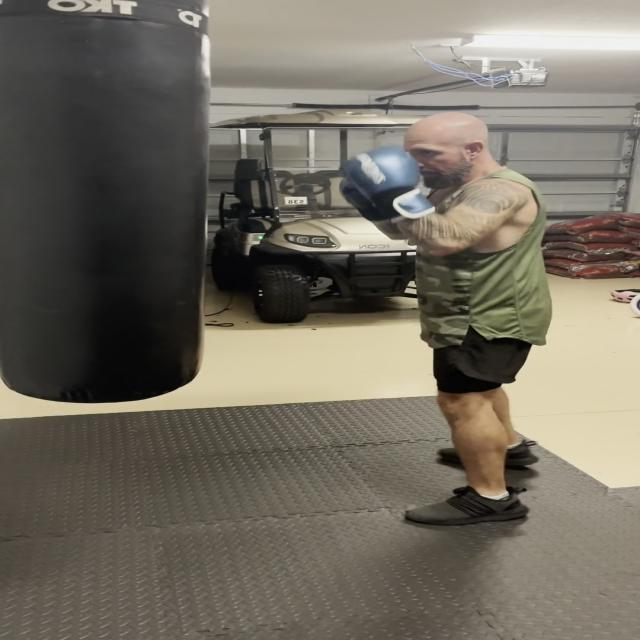bag: (2, 2, 215, 401)
no punch: (342, 109, 533, 263)
